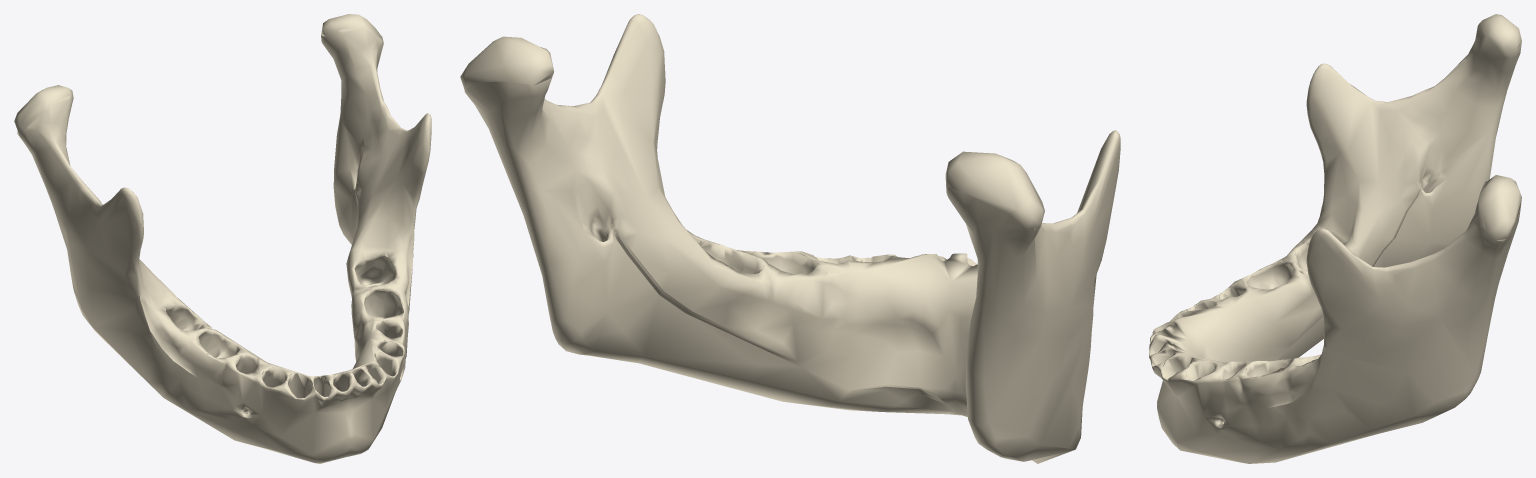
The model's file is esqueleto-mandible.glb.
3 renders of one model, left to right at view 1: azimuth 30°, elevation 25°; view 2: azimuth 150°, elevation 25°; view 3: azimuth 270°, elevation 25°, orthographic. The views are drawn at different scales.
Visible parts, largest first — view 1: Mandible; view 2: Mandible; view 3: Mandible.
Boxes of the visible parts, <box> form: Mandible: <box>14,14,431,463</box>; Mandible: <box>460,14,1120,463</box>; Mandible: <box>1149,14,1521,463</box>.
Bounding box in the file's own units: 0.1031 × 0.0824 × 0.0819.
